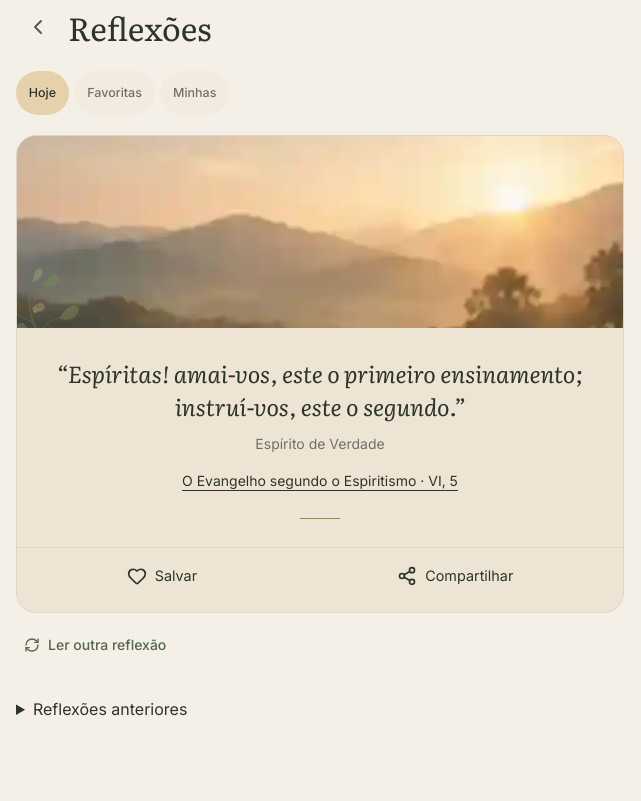
Scenario: editorial product interactions › preserves attributed sharing and saves curated favorites using the account action
What coordinates should you click on to do the following:
click the button "Salvar"
I would click on:
 (162, 576)
Its box is [111,554,213,598].
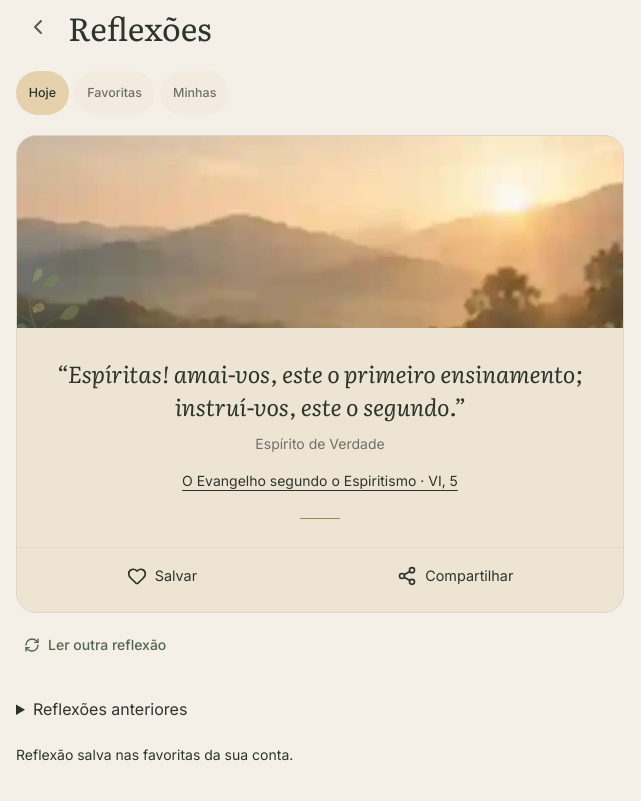
What coordinates should you click on to do the following:
click the button with aria-label "Compartilhar esta reflexão"
I would click on:
 (455, 576)
Its box is [381,554,529,598].
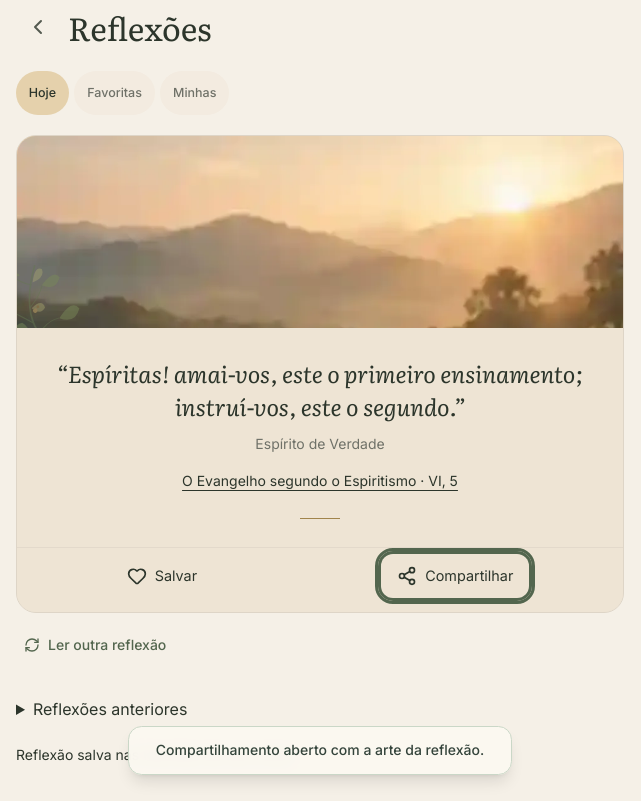
What coordinates should you click on to do the following:
click the button "Favoritas"
I would click on:
 (115, 93)
Its box is [74,71,155,115].
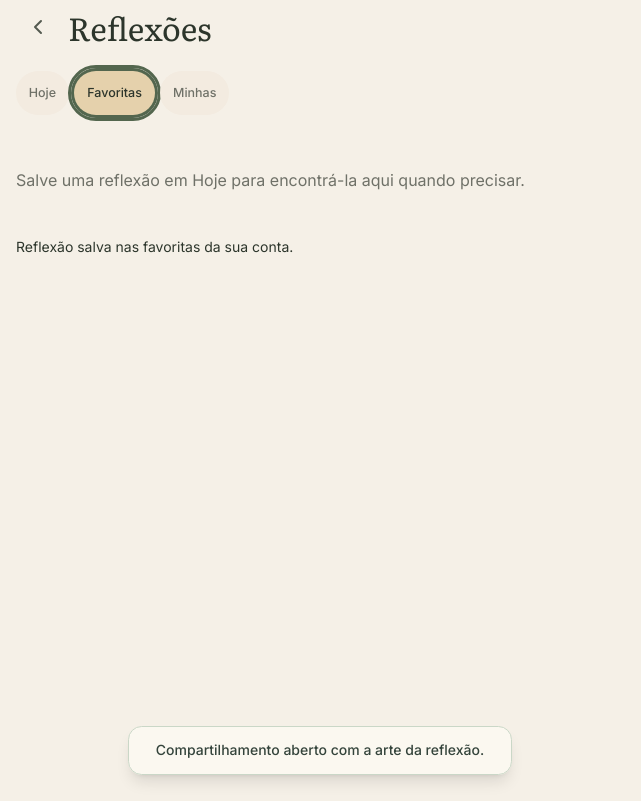
Result: the text "Salve uma reflexão em Hoje" is shown at [16,170,525,190]
